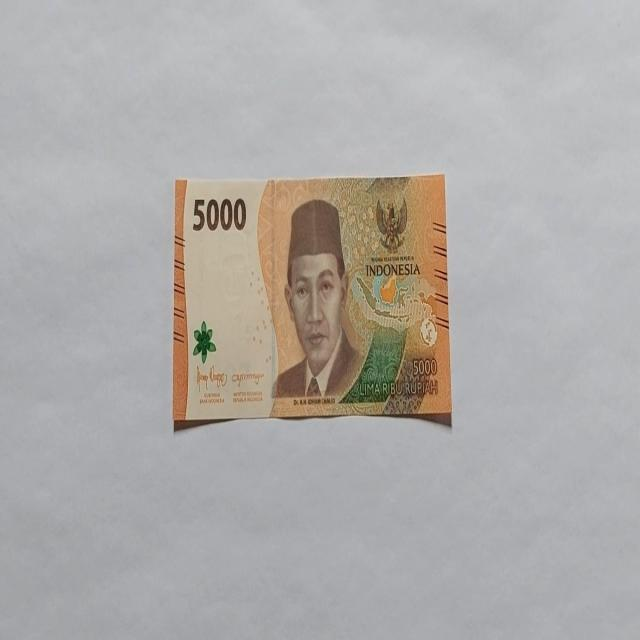lima ribu rupiah: (172, 173, 452, 430), (270, 198, 366, 404)
